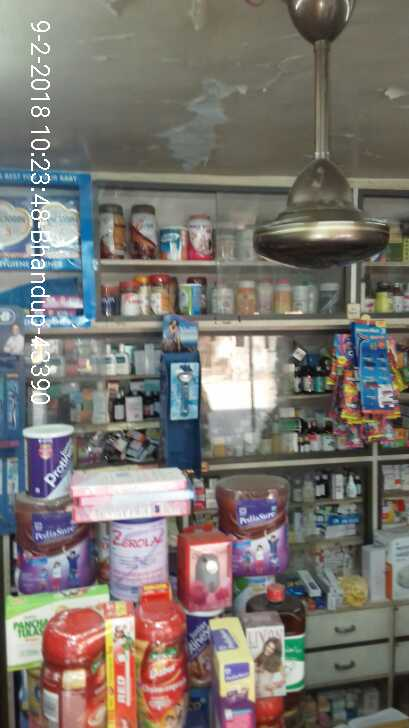beauty: (168, 362, 202, 419)
